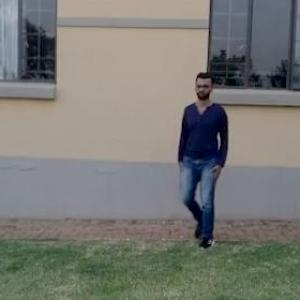follow: (178, 71, 228, 242)
